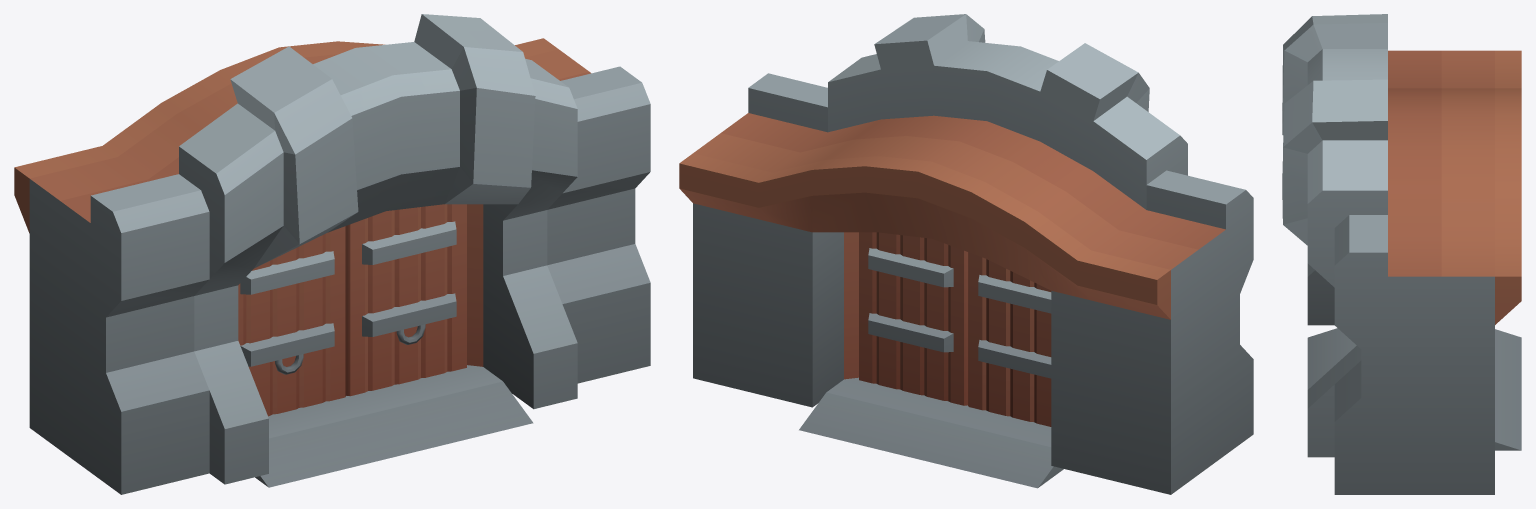
Rendered from gate.glb.
3 views of the same model, side by side, from view 1: azimuth 30°, elevation 25°; view 2: azimuth 150°, elevation 25°; view 3: azimuth 270°, elevation 25° (orthographic). The views are drawn at different scales.
Visible parts, largest first — view 1: gate; view 2: gate; view 3: gate.
Boxes of the visible parts, x1=… form: gate: x1=14, y1=14, x2=650, y2=494; gate: x1=679, y1=14, x2=1253, y2=494; gate: x1=1282, y1=14, x2=1521, y2=494.
Bounding box in the file's own units: 1 × 0.707 × 0.4478.
Materials: 1 (1 with a texture image).
